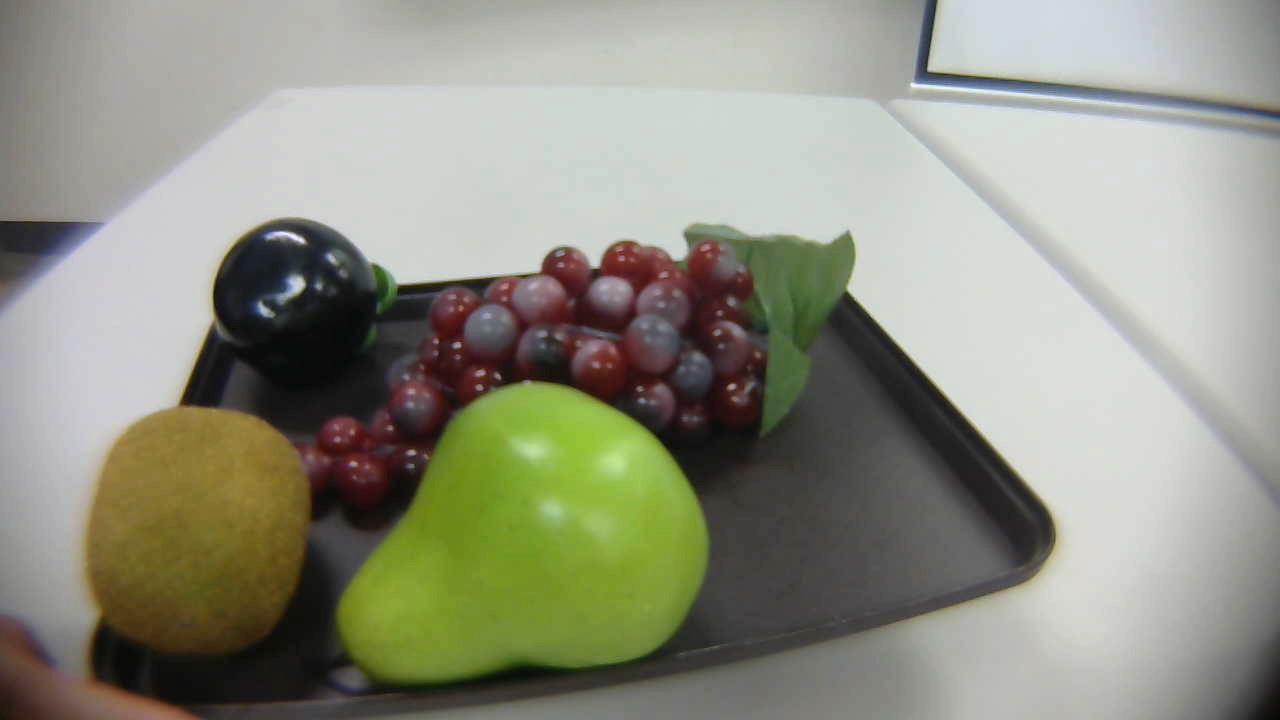grape: (285, 223, 862, 503)
green pear: (320, 379, 712, 689)
kiwi fruit: (80, 398, 327, 673)
mangosteen: (204, 220, 410, 386)
